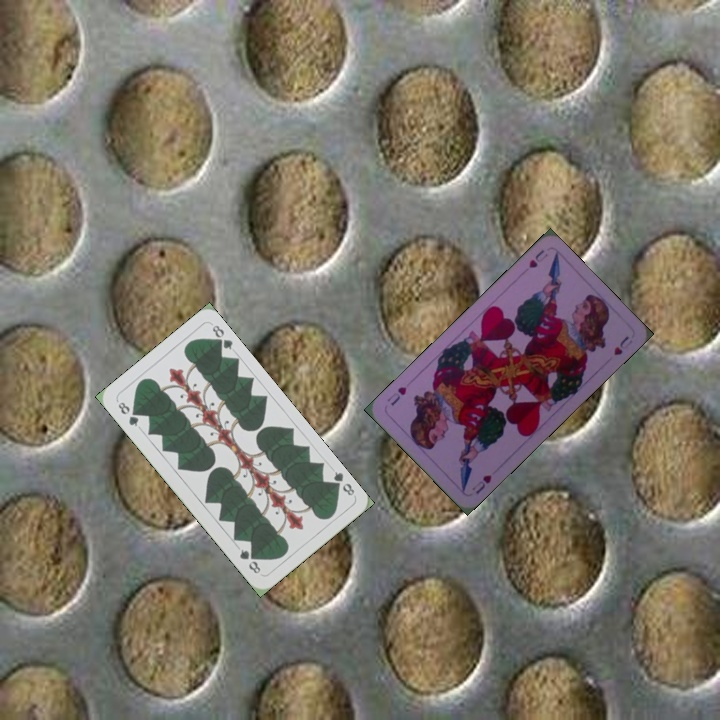G8: (327, 467, 357, 498), (114, 398, 141, 429)
HU: (468, 471, 494, 497), (524, 246, 550, 271)
